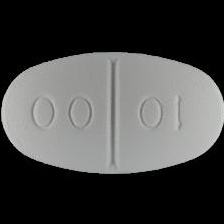53746-220: (0, 0, 224, 224)
